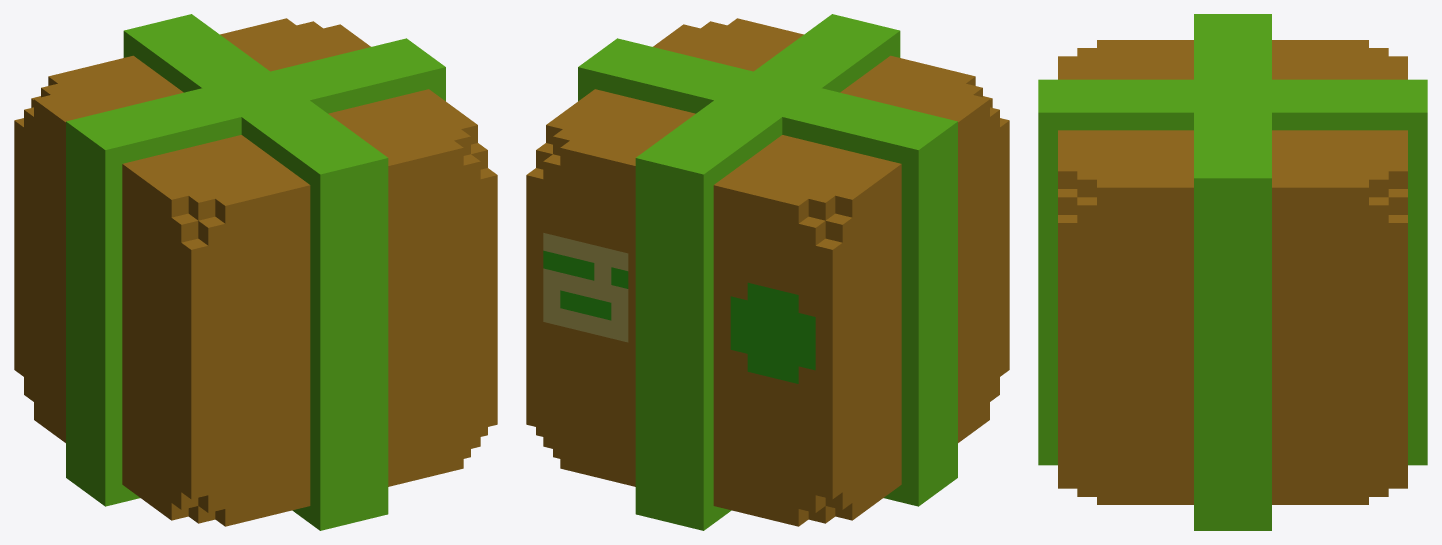
File: DecoVoxeModel.obj
The picture shows the model from 3 angles, left to right: view 1: azimuth 30°, elevation 25°; view 2: azimuth 150°, elevation 25°; view 3: azimuth 270°, elevation 25°; orthographic projection.
Size of the model in its own units: 2 by 2 by 2.
1 material, 1 textured.
